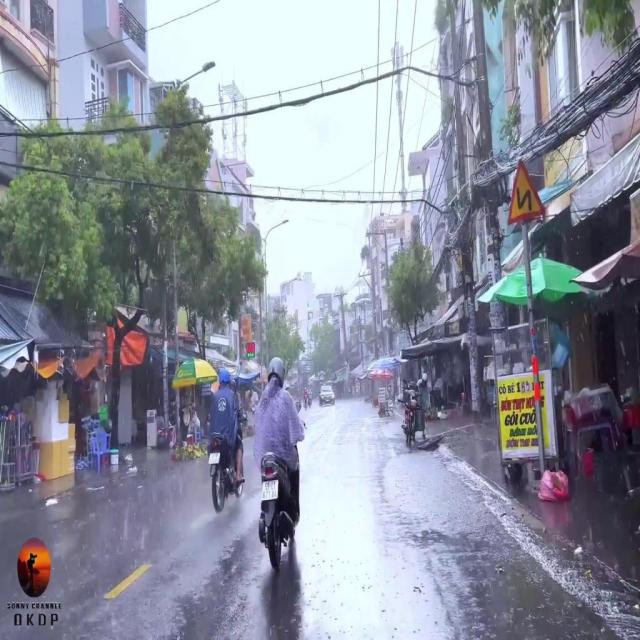cho_ngoat_nguy_hiem_lien_tiep: (506, 158, 546, 226)
